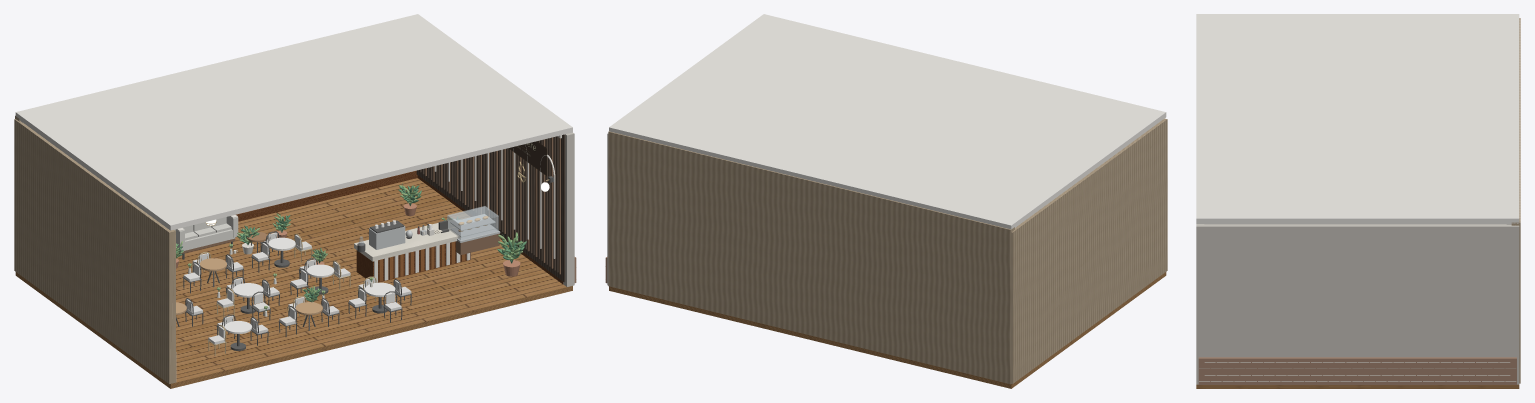
Rendered from cafe-lumiere-interactive-model-lite.glb.
3 renders of one model, left to right at view 1: azimuth 30°, elevation 25°; view 2: azimuth 150°, elevation 25°; view 3: azimuth 270°, elevation 25°, orthographic. The views are drawn at different scales.
Visible parts, largest first — view 1: Ceiling_Removable_Main_Slab, object 1, object 3, object 5, object 12, object 29, object 11, object 2, object 8, object 22, object 4, object 33 (+12 smaller); view 2: object 3, Ceiling_Removable_Main_Slab, object 1; view 3: Ceiling_Removable_Main_Slab, object 4, object 6, object 1, object 3, object 8.
Boxes of the visible parts, bbox=[...] form: Ceiling_Removable_Main_Slab: bbox=[15, 14, 572, 230]; object 1: bbox=[15, 178, 572, 388]; object 3: bbox=[14, 115, 175, 383]; object 5: bbox=[416, 134, 565, 282]; object 12: bbox=[176, 137, 560, 315]; object 29: bbox=[183, 232, 411, 344]; object 11: bbox=[176, 176, 553, 350]; object 2: bbox=[236, 170, 563, 283]; object 8: bbox=[21, 121, 561, 333]; object 22: bbox=[224, 220, 432, 333]; object 4: bbox=[176, 132, 574, 382]; object 33: bbox=[369, 214, 500, 249]; object 3: bbox=[608, 118, 1167, 384]; Ceiling_Removable_Main_Slab: bbox=[609, 14, 1166, 229]; object 1: bbox=[609, 272, 1166, 388]; Ceiling_Removable_Main_Slab: bbox=[1196, 14, 1519, 223]; object 4: bbox=[1196, 224, 1519, 384]; object 6: bbox=[1198, 357, 1516, 384]; object 1: bbox=[1196, 384, 1519, 388]; object 3: bbox=[1511, 18, 1520, 383]; object 8: bbox=[1204, 224, 1511, 224].
Size of the model in its own units: 15.23 by 5.82 by 10.04.
37 materials, 9 textured.
